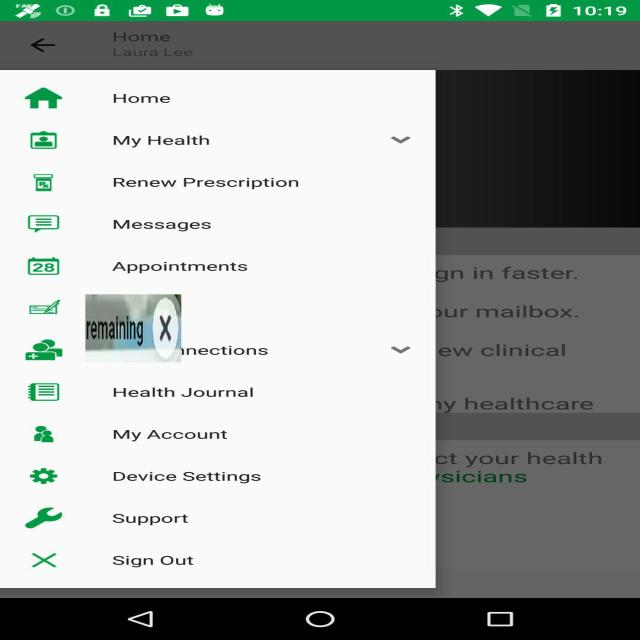misdirection: (86, 294, 182, 362)
